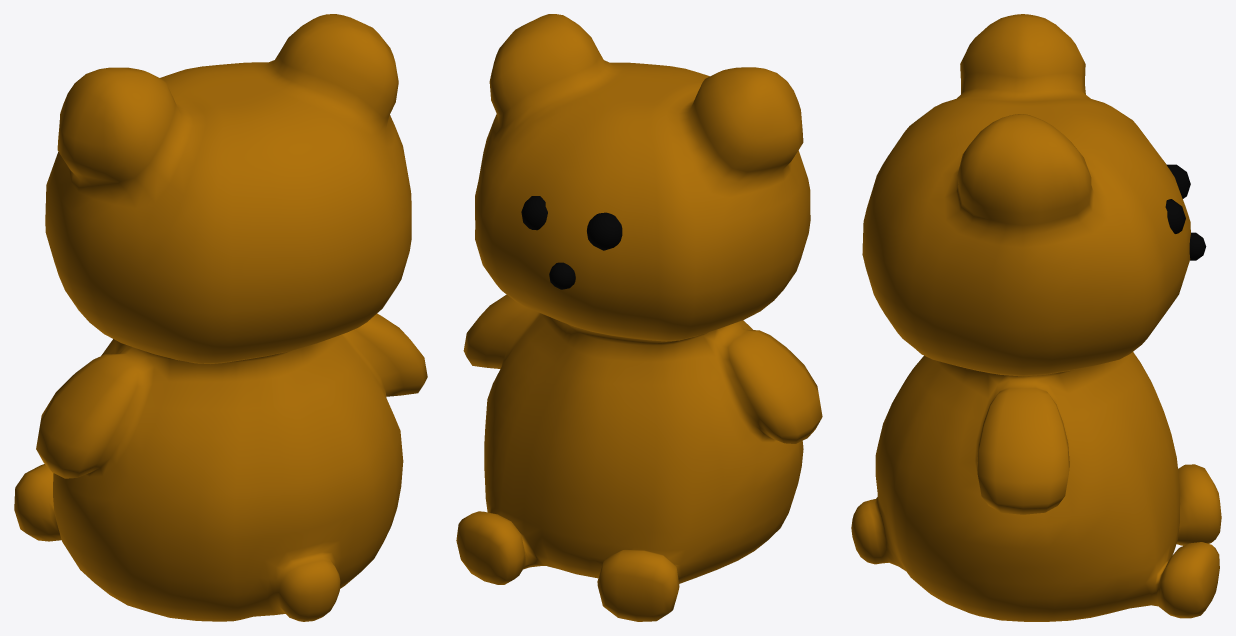
File: teddy.fbx
3 renders of one model, left to right at view 1: azimuth 30°, elevation 25°; view 2: azimuth 150°, elevation 25°; view 3: azimuth 270°, elevation 25°, orthographic. The views are drawn at different scales.
Visible parts, largest first — view 1: Teddy; view 2: Teddy, Icosphere.001, Icosphere, Icosphere.002; view 3: Teddy, Icosphere.
Part boxes in pixels (<box>): Teddy: <box>14,14,427,621</box>; Teddy: <box>456,14,822,621</box>; Icosphere.001: <box>587,212,622,250</box>; Icosphere: <box>521,196,547,230</box>; Icosphere.002: <box>549,262,575,289</box>; Teddy: <box>851,14,1221,621</box>; Icosphere: <box>1165,199,1185,233</box>.
Size of the model in its own units: 601 by 850 by 550.
